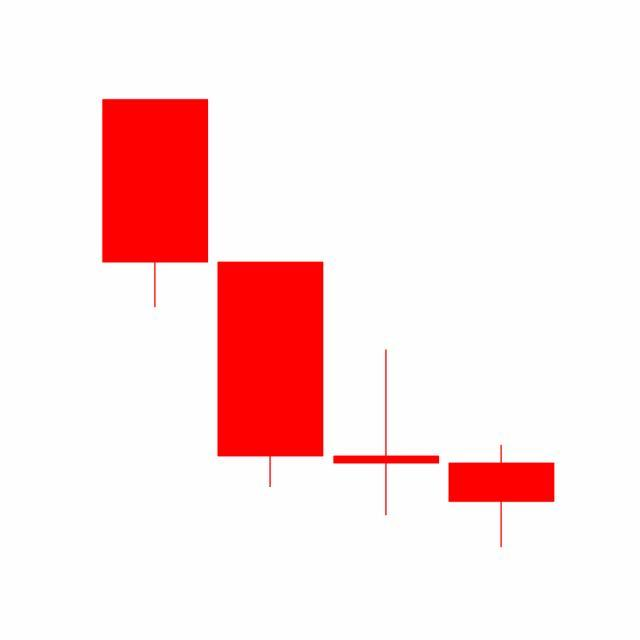Spinning Top: (329, 349, 445, 519)
